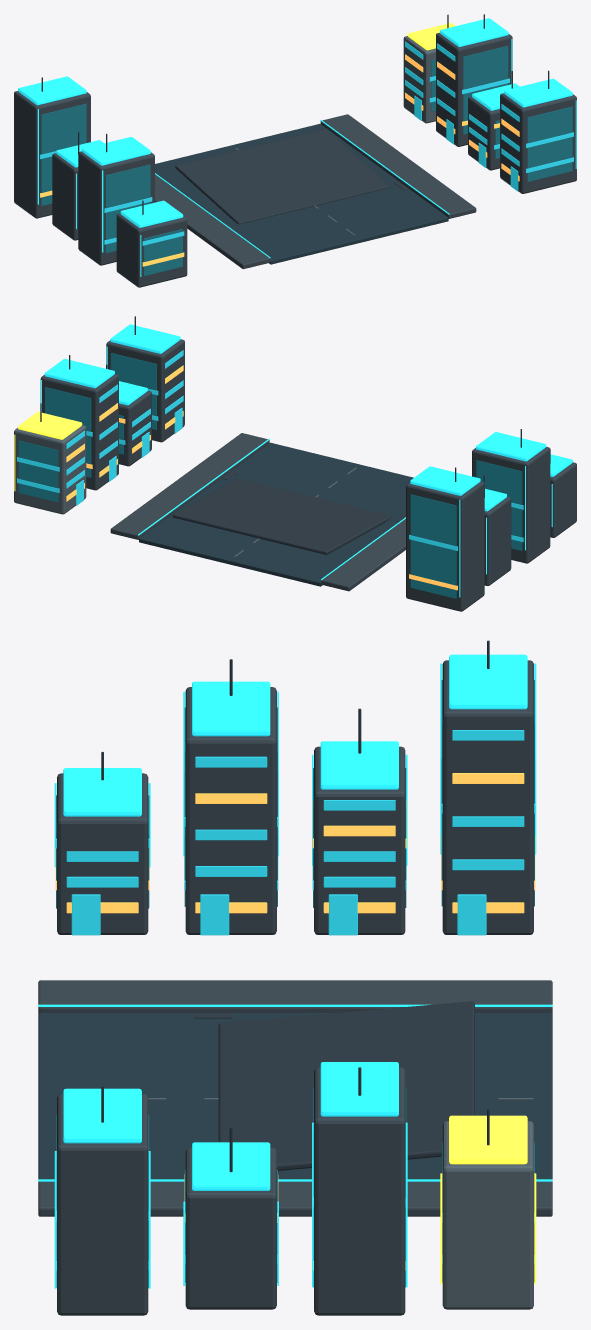
The model's file is ramp_up_lod0.glb.
The picture shows the model from 3 angles, top to bottom: view 1: azimuth 30°, elevation 25°; view 2: azimuth 150°, elevation 25°; view 3: azimuth 270°, elevation 25°; orthographic projection. The views are drawn at different scales.
Visible parts, largest first — view 1: ND_Batch_ND_CityConcrete, ND_Batch_ND_RooftopMetal, ND_Batch_ND_WetAsphalt, ND_Batch_ND_DarkGlass, ND_Batch_ND_CityCyanMuted, ND_Batch_ND_RoadEdge, ND_Batch_ND_NeonGlass, ND_Batch_ND_CityConcreteLight, ND_Batch_ND_WarmWindow, ND_Batch_ND_PackageGold; view 2: ND_Batch_ND_CityConcrete, ND_Batch_ND_WetAsphalt, ND_Batch_ND_DarkGlass, ND_Batch_ND_RooftopMetal, ND_Batch_ND_CityCyanMuted, ND_Batch_ND_RoadEdge, ND_Batch_ND_NeonGlass, ND_Batch_ND_CityConcreteLight, ND_Batch_ND_PackageGold, ND_Batch_ND_WarmWindow; view 3: ND_Batch_ND_CityConcrete, ND_Batch_ND_CityCyanMuted, ND_Batch_ND_WetAsphalt, ND_Batch_ND_RooftopMetal, ND_Batch_ND_RoadEdge, ND_Batch_ND_NeonGlass, ND_Batch_ND_CityConcreteLight, ND_Batch_ND_WarmWindow, ND_Batch_ND_PackageGold, ND_Batch_ND_DarkGlass.
Part boxes in pixels (left/top/right/bottom): ND_Batch_ND_CityConcrete: left=14, top=32, right=576, bottom=287; ND_Batch_ND_RooftopMetal: left=41, top=14, right=549, bottom=231; ND_Batch_ND_WetAsphalt: left=155, top=124, right=448, bottom=264; ND_Batch_ND_DarkGlass: left=41, top=46, right=572, bottom=275; ND_Batch_ND_CityCyanMuted: left=18, top=18, right=576, bottom=276; ND_Batch_ND_RoadEdge: left=155, top=114, right=476, bottom=269; ND_Batch_ND_NeonGlass: left=40, top=41, right=573, bottom=245; ND_Batch_ND_CityConcreteLight: left=235, top=36, right=435, bottom=235; ND_Batch_ND_WarmWindow: left=40, top=54, right=519, bottom=266; ND_Batch_ND_PackageGold: left=407, top=23, right=455, bottom=50; ND_Batch_ND_CityConcrete: left=40, top=339, right=576, bottom=611; ND_Batch_ND_WetAsphalt: left=139, top=442, right=413, bottom=586; ND_Batch_ND_DarkGlass: left=18, top=353, right=522, bottom=598; ND_Batch_ND_RooftopMetal: left=40, top=316, right=550, bottom=554; ND_Batch_ND_CityCyanMuted: left=41, top=324, right=572, bottom=597; ND_Batch_ND_RoadEdge: left=110, top=433, right=405, bottom=591; ND_Batch_ND_NeonGlass: left=17, top=350, right=523, bottom=550; ND_Batch_ND_CityConcreteLight: left=14, top=425, right=356, bottom=556; ND_Batch_ND_PackageGold: left=14, top=411, right=82, bottom=491; ND_Batch_ND_WarmWindow: left=66, top=365, right=457, bottom=590; ND_Batch_ND_CityConcrete: left=57, top=660, right=533, bottom=1315; ND_Batch_ND_CityCyanMuted: left=38, top=654, right=552, bottom=1288; ND_Batch_ND_WetAsphalt: left=38, top=1013, right=552, bottom=1182; ND_Batch_ND_RooftopMetal: left=101, top=640, right=489, bottom=1172; ND_Batch_ND_RoadEdge: left=38, top=980, right=552, bottom=1216; ND_Batch_ND_NeonGlass: left=55, top=730, right=535, bottom=1270; ND_Batch_ND_CityConcreteLight: left=148, top=1098, right=533, bottom=1309; ND_Batch_ND_WarmWindow: left=55, top=773, right=535, bottom=1270; ND_Batch_ND_PackageGold: left=440, top=1115, right=536, bottom=1284; ND_Batch_ND_DarkGlass: left=56, top=680, right=534, bottom=1287.
Size of the model in its own units: 40 by 11.43 by 20.
